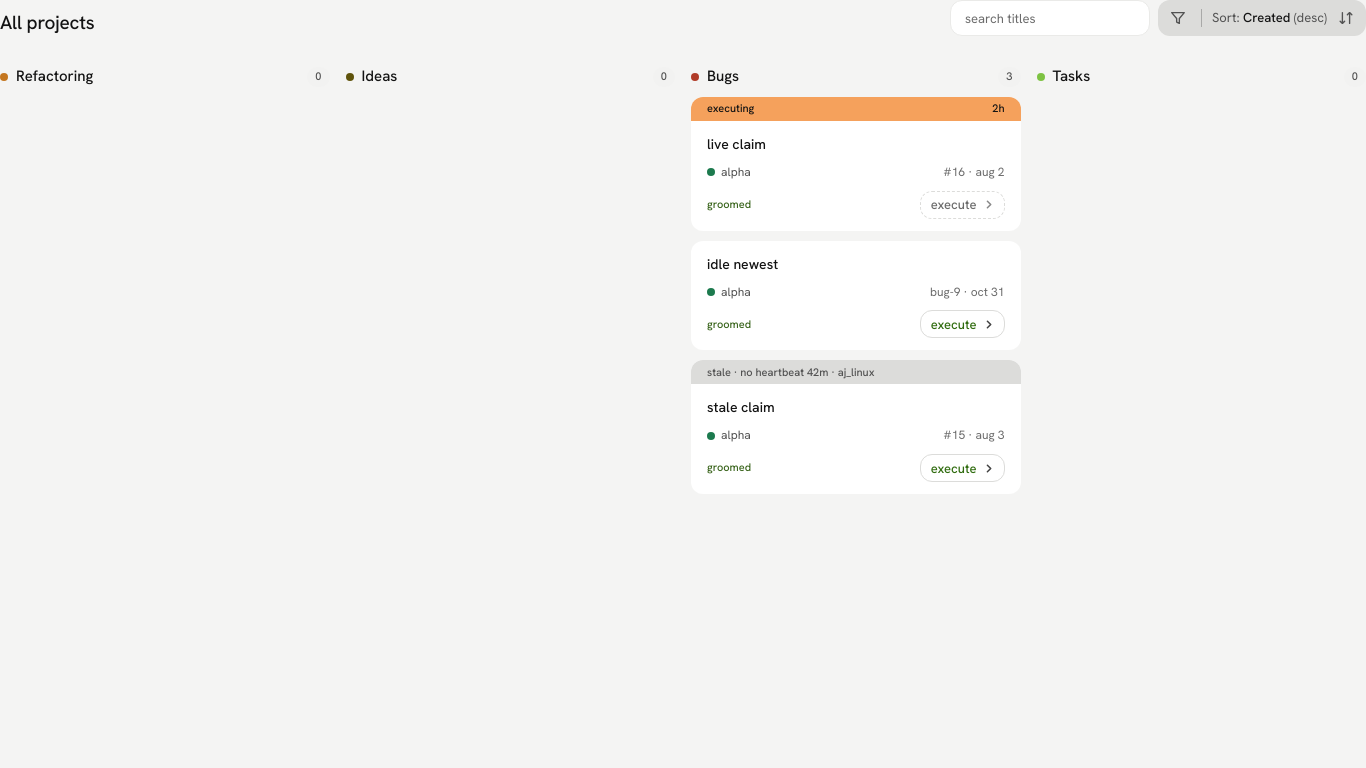
Test: BoardView: card live strips › renders a stale claim as stale, ranks it with idle work, keeps it out of In progress, and keeps it on the board
Expected: the text "Bugs" is shown, [707,66,739,87]
Expected: the element with class "board-card-live" that starts with "stale · no heartbeat 42m · aj_linux" is shown, [691,360,1020,384]
Click the button named "Filters".
click(1178, 18)  # box [1161,3,1195,33]
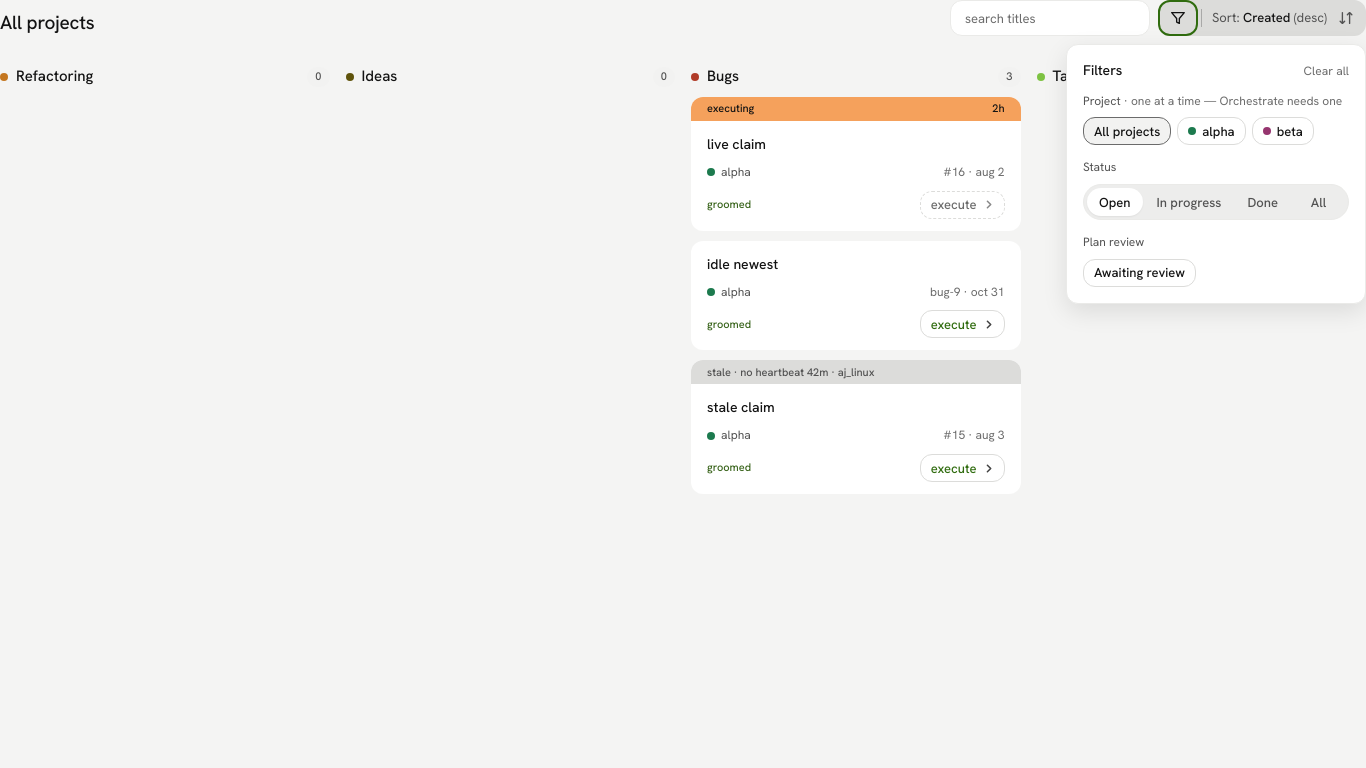
Click the button "In progress".
click(1189, 202)  # box [1144,188,1233,216]
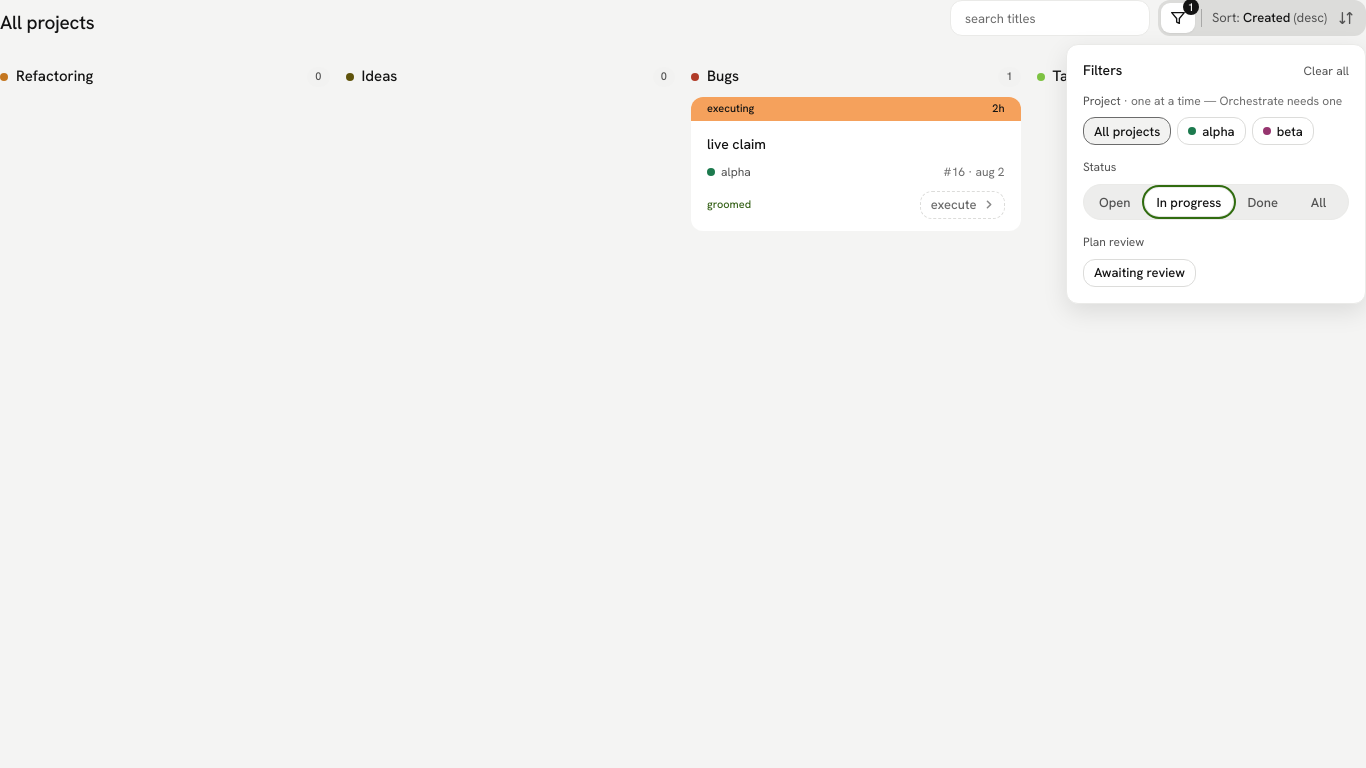
Expected: the text "live claim" is shown, [707,135,766,153]
Expected: the button "stale claim" is gone
